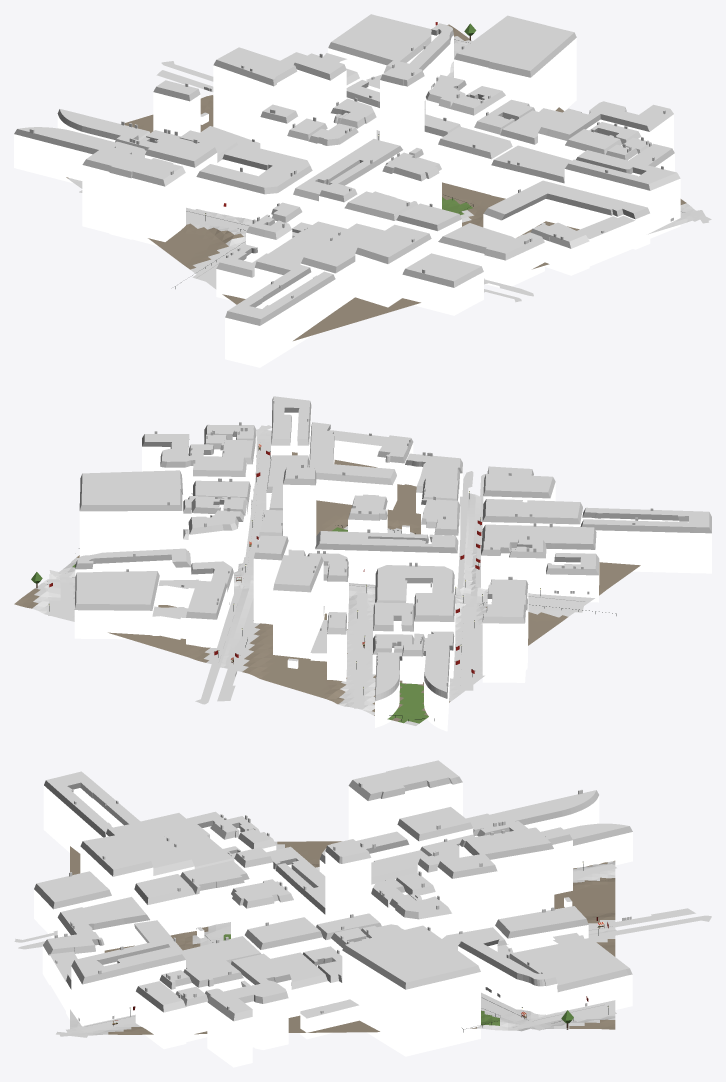
File: zone_F3.glb
The picture shows the model from 3 angles, top to bottom: view 1: azimuth 30°, elevation 25°; view 2: azimuth 150°, elevation 25°; view 3: azimuth 270°, elevation 25°; orthographic projection. The views are drawn at different scales.
Visible parts, largest first — view 1: zone_F3_batiments, zone_F3_terrain, zone_F3_sol_NOCOL; view 2: zone_F3_batiments, zone_F3_terrain, zone_F3_sol_NOCOL; view 3: zone_F3_batiments, zone_F3_terrain, zone_F3_sol_NOCOL.
Boxes of the visible parts, x1,y1,x2,y2 form: zone_F3_batiments: (14,14,680,367); zone_F3_terrain: (66,24,695,340); zone_F3_sol_NOCOL: (79,42,711,302); zone_F3_batiments: (74,396,711,731); zone_F3_terrain: (14,436,640,725); zone_F3_sol_NOCOL: (47,425,585,708); zone_F3_batiments: (34,760,632,1067); zone_F3_terrain: (70,841,615,1035); zone_F3_sol_NOCOL: (14,864,711,1037).
Size of the model in its own units: 250 by 57.55 by 272.
